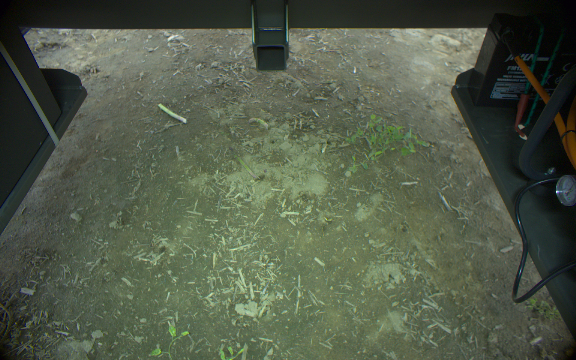aspa: (228, 146, 260, 180), (156, 102, 188, 125), (249, 115, 269, 129)
